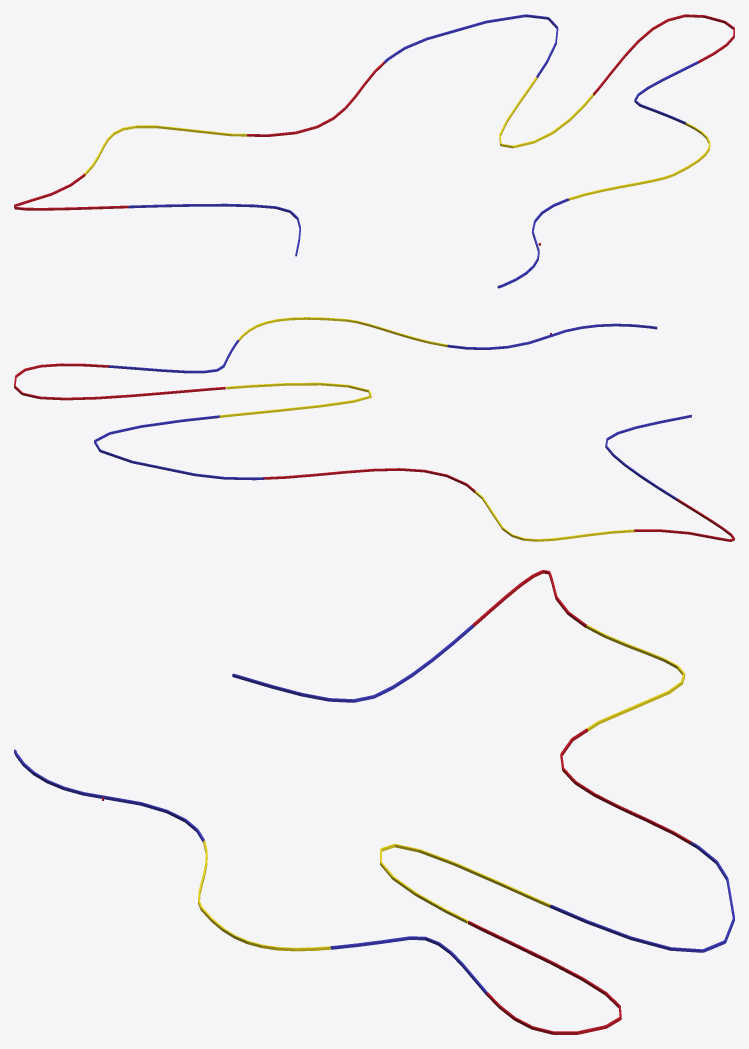
Rendered from Keskeny_piros_kek_sarga_palya_szele_nelkul.dae.
3 renders of one model, top to bottom at view 1: azimuth 30°, elevation 25°; view 2: azimuth 150°, elevation 25°; view 3: azimuth 270°, elevation 25°, orthographic. The views are drawn at different scales.
Visible parts, largest first — view 1: Cube.007, Cube.005, Cube.011, Cube.010, Cube.003, Cube.009, Cube.006, Cube.008; view 2: Cube.005, Cube.007, Cube.006, Cube.008, Cube.003, Cube.001, Cube.011, Cube.009, Cube.010, Cube.004; view 3: Cube.005, Cube.006, Cube.007, Cube.011, Cube.009, Cube.001, Cube.008, Cube.003, Cube.004.
Part boxes in pixels (<box>): Cube.007: <box>384,14,558,78</box>; Cube.005: <box>592,14,734,95</box>; Cube.011: <box>128,203,300,256</box>; Cube.010: <box>14,174,128,210</box>; Cube.003: <box>568,122,710,200</box>; Cube.009: <box>84,125,246,175</box>; Cube.006: <box>499,77,593,148</box>; Cube.008: <box>247,61,384,136</box>; Cube.005: <box>14,363,225,400</box>; Cube.007: <box>94,415,264,480</box>; Cube.006: <box>219,382,371,417</box>; Cube.008: <box>263,468,475,492</box>; Cube.003: <box>238,317,447,347</box>; Cube.001: <box>447,323,657,349</box>; Cube.011: <box>605,414,691,500</box>; Cube.009: <box>475,491,634,541</box>; Cube.010: <box>634,498,734,541</box>; Cube.004: <box>108,340,238,373</box>; Cube.005: <box>468,921,621,1034</box>; Cube.006: <box>380,844,551,923</box>; Cube.007: <box>550,842,734,952</box>; Cube.011: <box>232,625,473,702</box>; Cube.009: <box>586,625,685,731</box>; Cube.001: <box>14,749,204,842</box>; Cube.008: <box>560,728,691,844</box>; Cube.003: <box>198,840,330,951</box>; Cube.004: <box>330,936,487,994</box>.
Size of the model in its own units: 10.83 by 7.14 by 0.0305.
